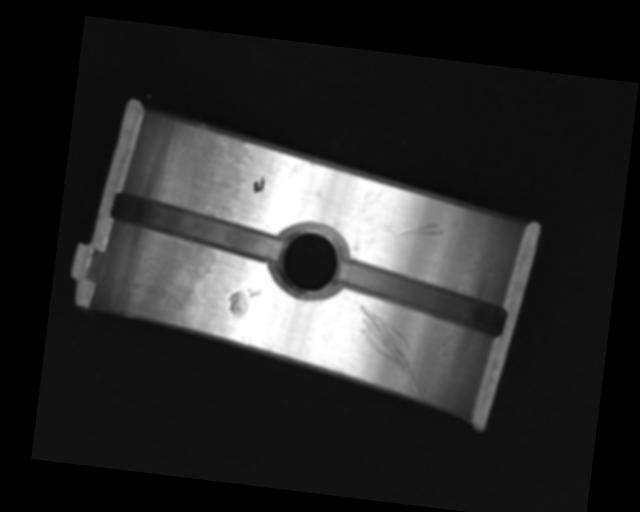blot: (252, 174, 265, 195)
bruise: (225, 285, 261, 320)
gap: (333, 258, 509, 336), (106, 191, 285, 260)
hole: (271, 220, 347, 300)
nick: (349, 303, 430, 392), (386, 217, 444, 241)
